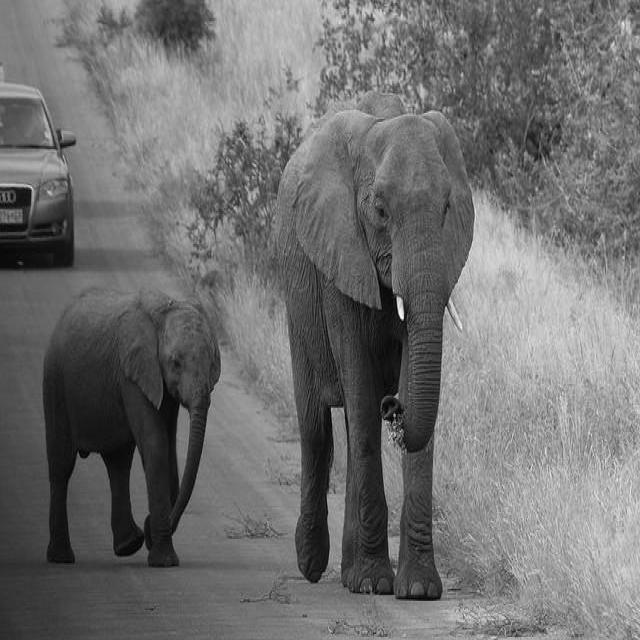vehicle: (0, 81, 77, 265)
